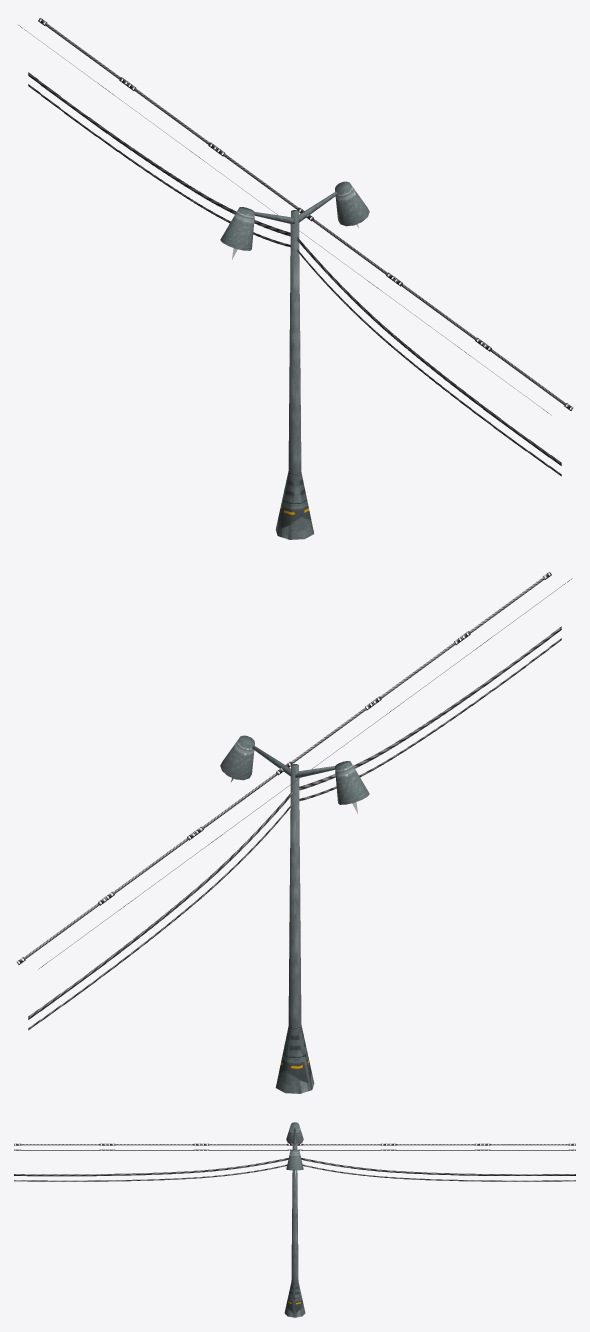
File: pbtele01.FBX
3 renders of one model, top to bottom at view 1: azimuth 30°, elevation 25°; view 2: azimuth 150°, elevation 25°; view 3: azimuth 270°, elevation 25°, orthographic. The views are drawn at different scales.
Visible parts, largest first — view 1: pbtele01, lines1__2; view 2: pbtele01, lines1__2; view 3: lines1__2, pbtele01.
Boxes of the visible parts, left/top/right/bottom form: pbtele01: left=220, top=181, right=369, bottom=539; lines1__2: left=17, top=18, right=573, bottom=476; pbtele01: left=220, top=735, right=369, bottom=1093; lines1__2: left=16, top=572, right=572, bottom=1030; lines1__2: left=14, top=1143, right=575, bottom=1181; pbtele01: left=284, top=1122, right=305, bottom=1317.
Size of what is drawn, in the model's own units: 5.02 by 32 by 11.13.
